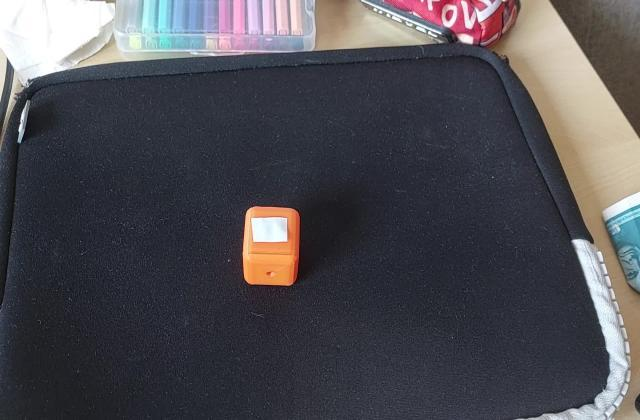sticker: (241, 206, 303, 288)
white: (249, 215, 291, 245)
